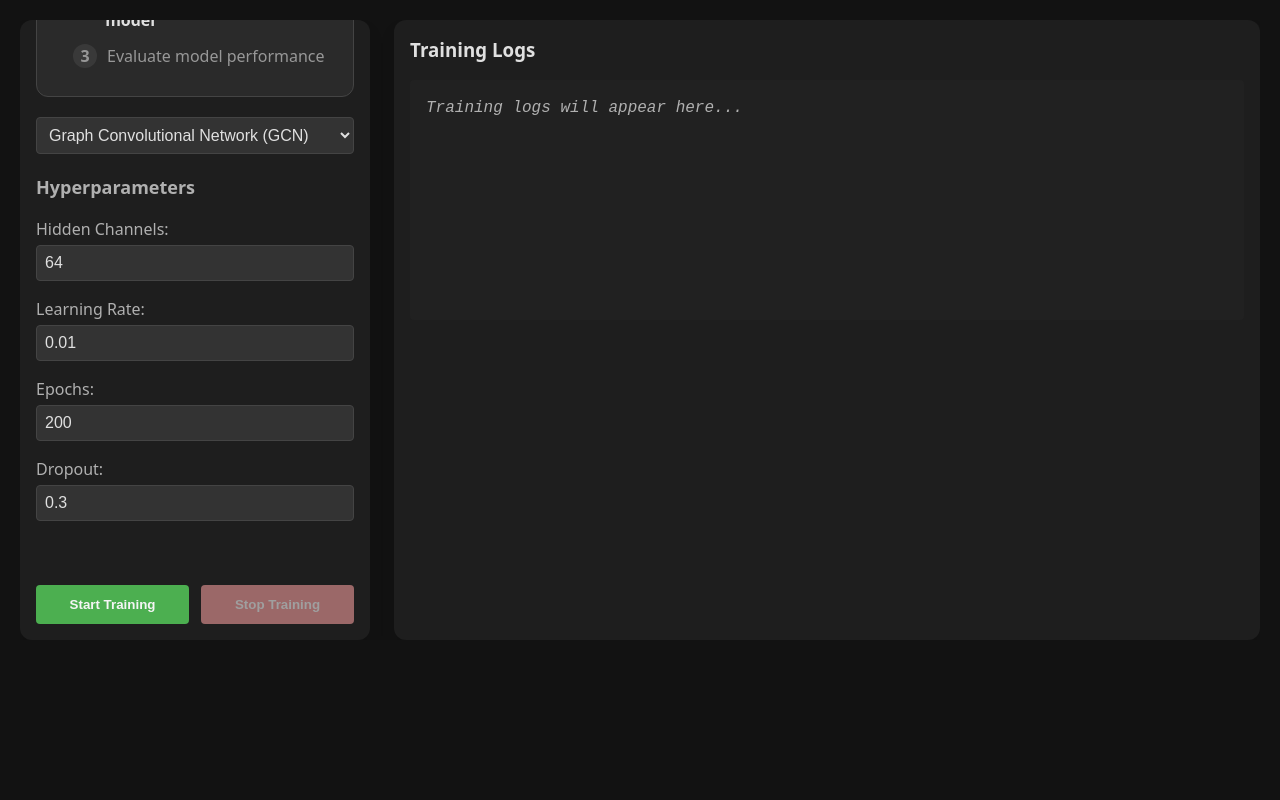
TrainingTab Component (with GraphDataProvider) › resets training logs and results when model changes
(page scrolled)
Click the button "Start Training": (112, 604) [36,585,189,624]
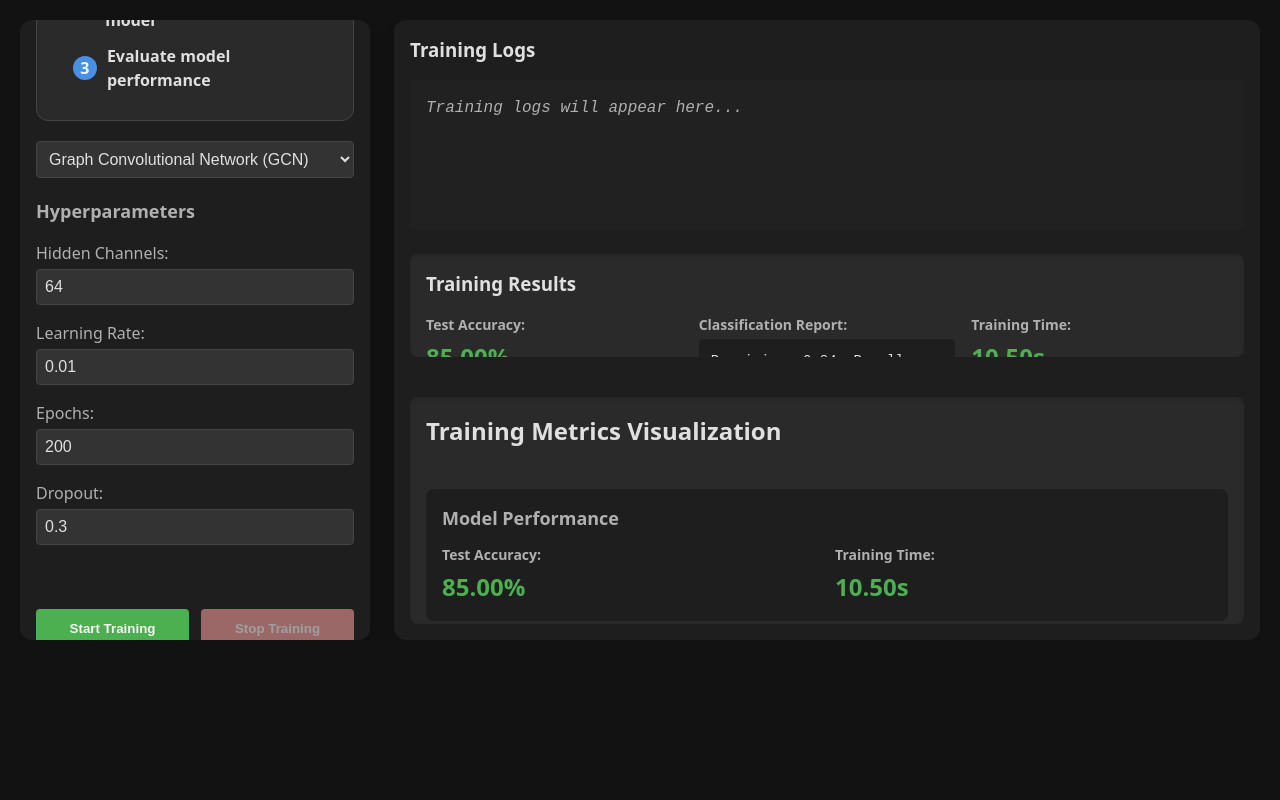
Now the heading "Training Results" is shown, box [426,271,576,296]
Select "GraphSAGE" in the dropdown named "Model Architecture:": (195, 160) [36,141,354,178]
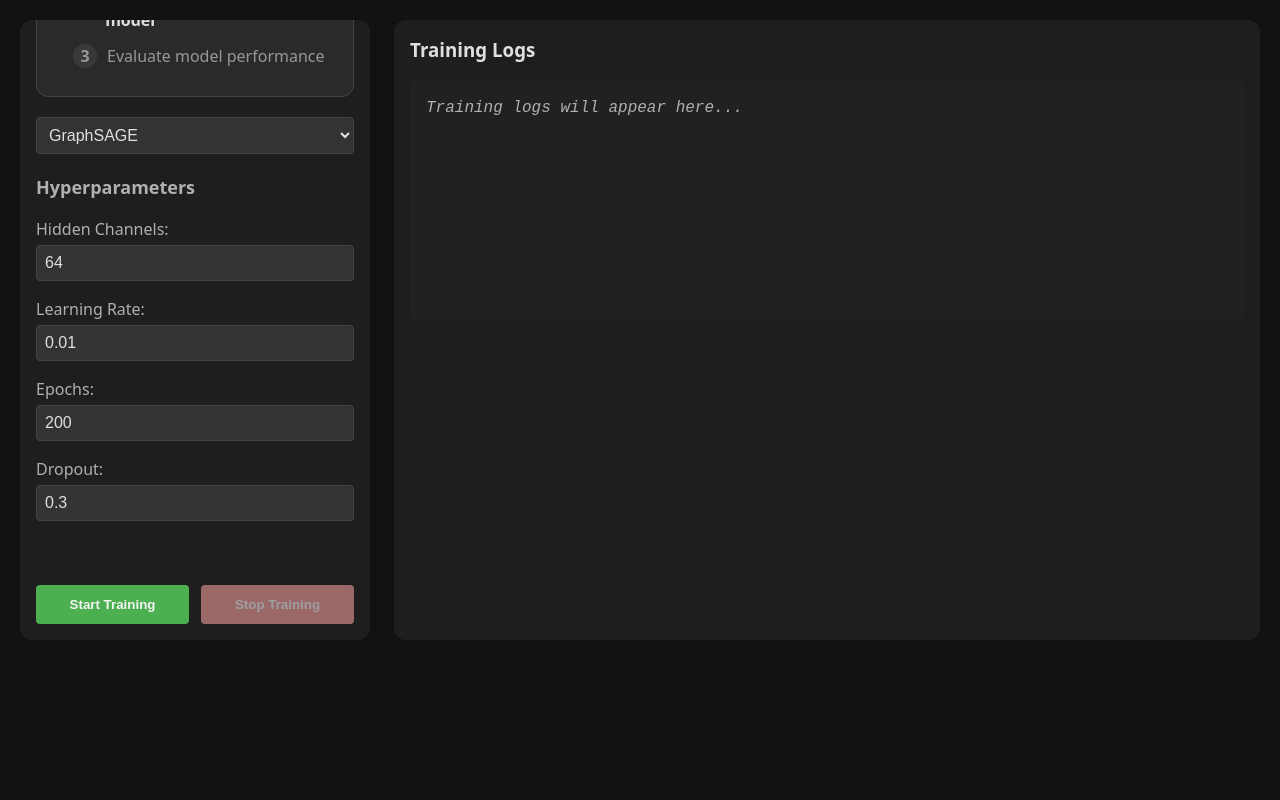
Now the heading "Training Results" is gone
